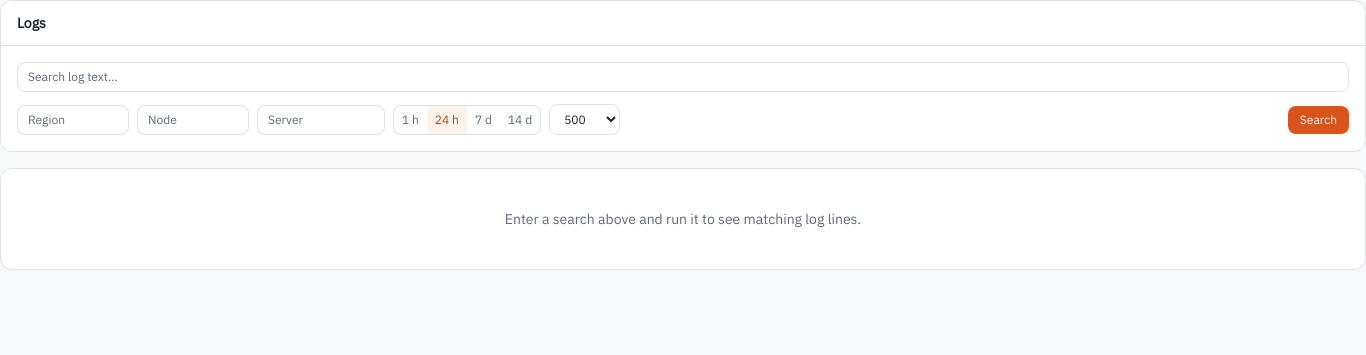
Logs — экран флит-поиска › гонка stale-ответа: поздний ответ на устаревший поиск A не переписывает уже применённый результат более нового B
Type "search-a" into the field with placeholder "Search log text…" at coordinates (683, 77), box [17,62,1349,92]
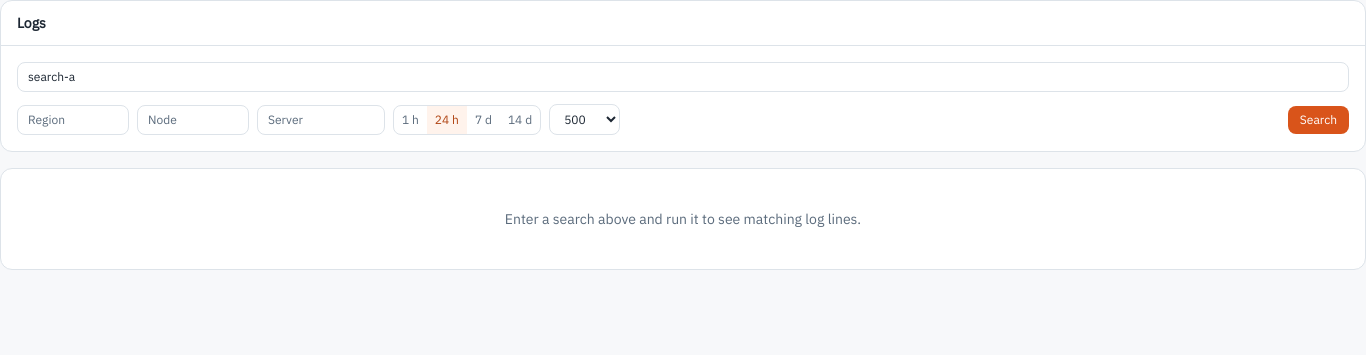
Submit the form with placeholder "Search log text…", box [1,46,1365,151]
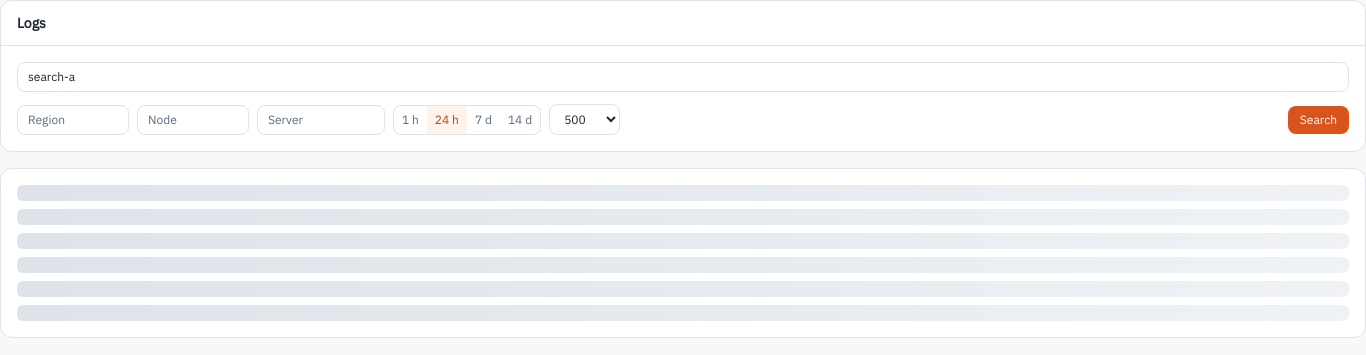
Replace the text in the field with placeholder "Search log text…" with "search-b" at coordinates (683, 77), box [17,62,1349,92]
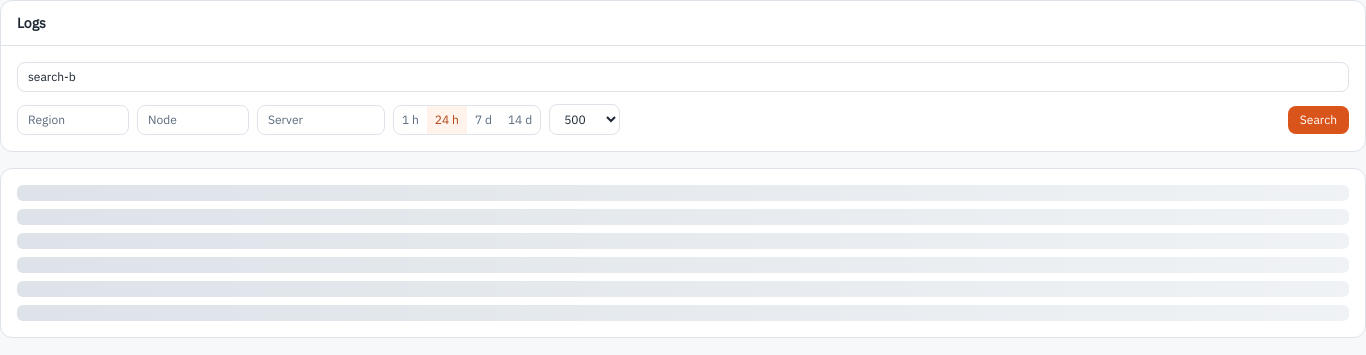
Submit the form with placeholder "Search log text…", box [1,46,1365,151]
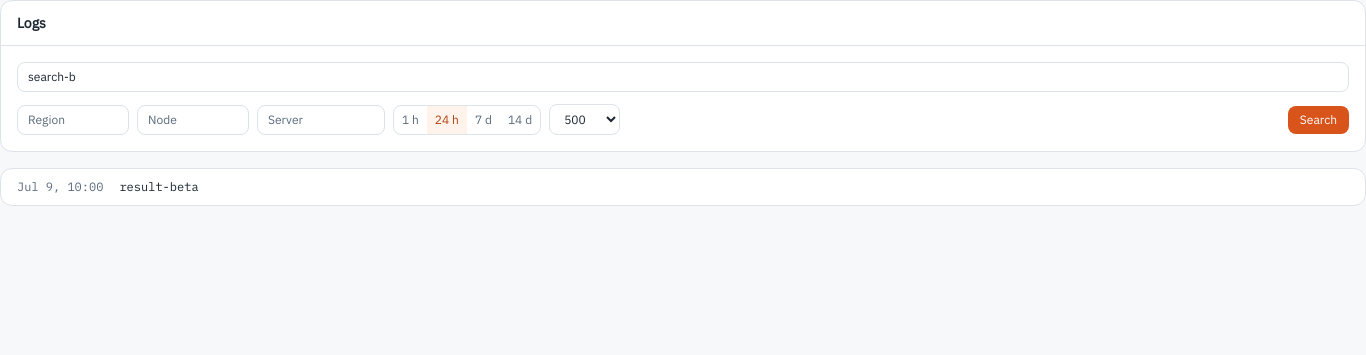
Expected: the text "result-beta" is shown, [119,179,199,194]
